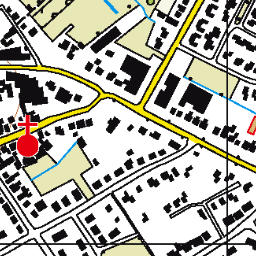church: (13, 112, 43, 159)
